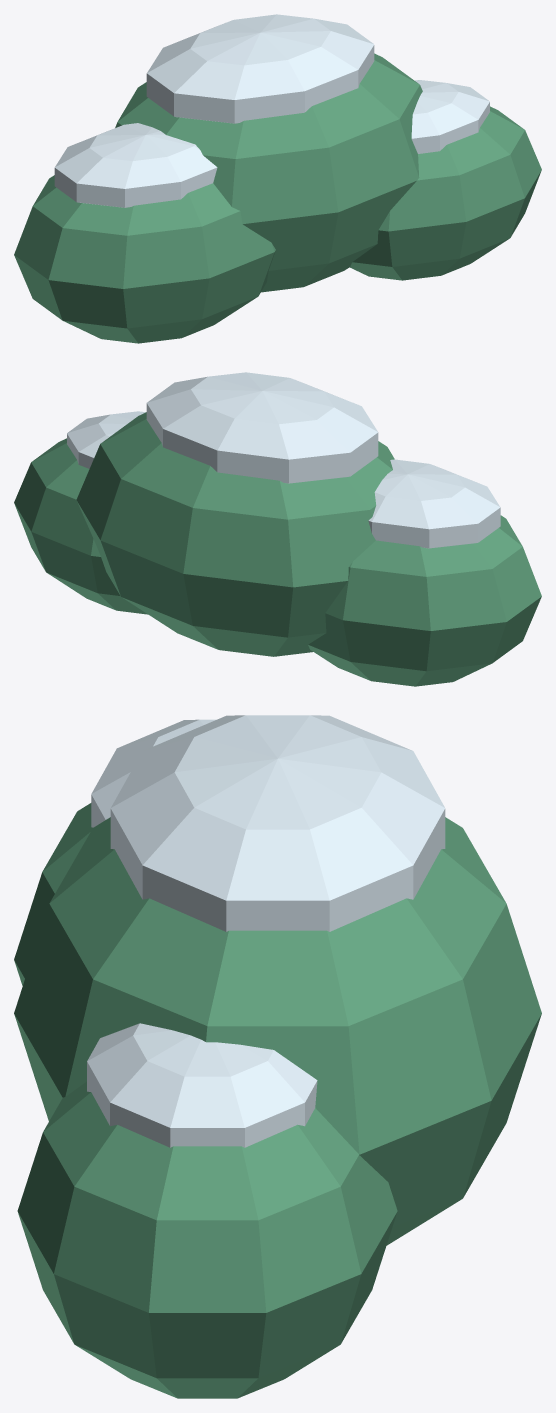
Rendered from dressing-bush.glb.
3 renders of one model, top to bottom at view 1: azimuth 30°, elevation 25°; view 2: azimuth 150°, elevation 25°; view 3: azimuth 270°, elevation 25°, orthographic. The views are drawn at different scales.
Parts seen in each view (by area): view 1: BushCluster01, BushCluster00, BushSnow01, BushCluster02, BushSnow00, BushSnow02; view 2: BushCluster01, BushCluster00, BushSnow01, BushCluster02, BushSnow00, BushSnow02; view 3: BushCluster01, BushCluster02, BushSnow01, BushSnow02, BushCluster00, BushSnow00.
Boxes of the visible parts, x1,y1,x2,y2 form: BushCluster01: (115, 53, 422, 292); BushCluster00: (14, 175, 275, 343); BushSnow01: (146, 14, 374, 123); BushCluster02: (350, 106, 541, 280); BushSnow00: (54, 123, 217, 207); BushSnow02: (411, 80, 489, 153); BushCluster01: (76, 412, 394, 656); BushCluster00: (308, 515, 541, 686); BushSnow01: (146, 372, 378, 483); BushCluster02: (14, 438, 147, 614); BushSnow00: (368, 459, 500, 548); BushSnow02: (67, 411, 145, 468); BushCluster01: (14, 817, 541, 1245); BushCluster02: (17, 1081, 397, 1398); BushSnow01: (110, 715, 445, 931); BushSnow02: (87, 1023, 317, 1147); BushCluster00: (14, 803, 92, 985); BushSnow00: (91, 719, 216, 827).
Size of the model in its own units: 3.05 by 1.53 by 1.5.
